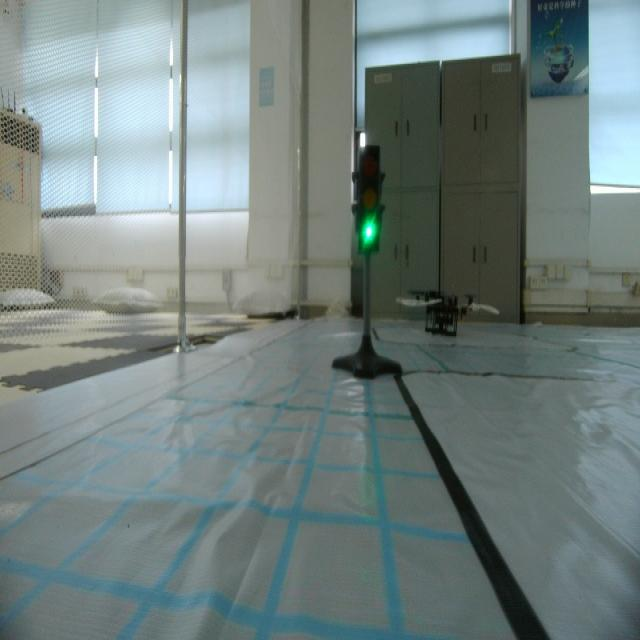green: (351, 140, 385, 261)
